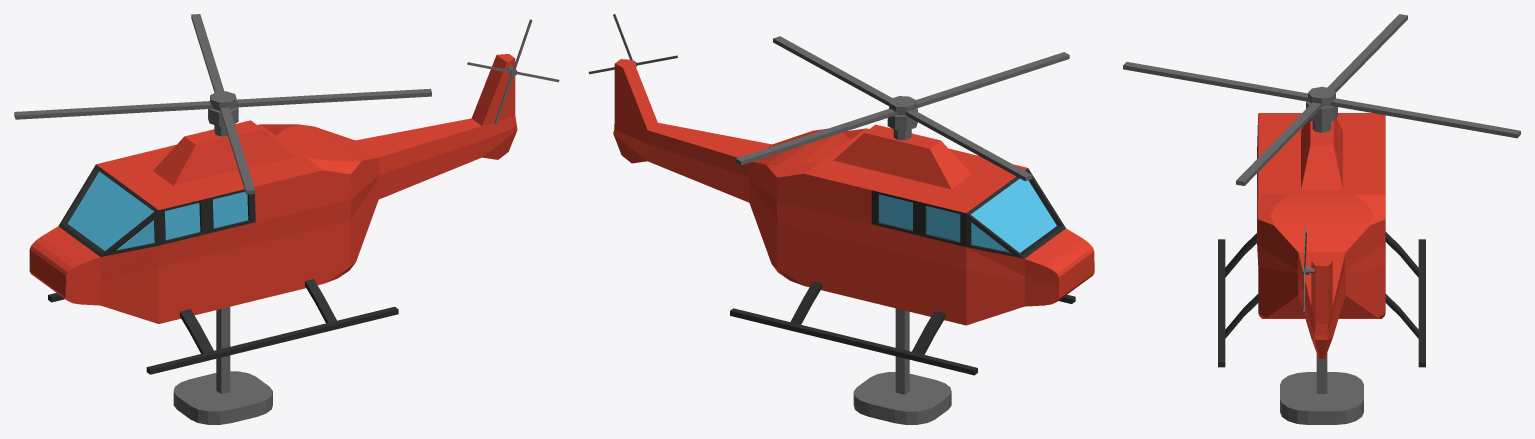
Rendered from helicopter.glb.
3 renders of one model, left to right at view 1: azimuth 30°, elevation 25°; view 2: azimuth 150°, elevation 25°; view 3: azimuth 270°, elevation 25°, orthographic. The views are drawn at different scales.
Visible parts, largest first — view 1: helicoptere, propeller-main, magnet, Cube.001, rope, propeller-side; view 2: helicoptere, propeller-main, magnet, Cube.001, rope; view 3: helicoptere, propeller-main, magnet, Cube.001, rope.
Part boxes in pixels (bbox=[...]): helicoptere: bbox=[29, 54, 517, 323]; propeller-main: bbox=[14, 14, 431, 194]; magnet: bbox=[173, 371, 272, 424]; Cube.001: bbox=[48, 279, 398, 374]; rope: bbox=[216, 307, 230, 394]; propeller-side: bbox=[467, 19, 559, 124]; helicoptere: bbox=[613, 59, 1094, 325]; propeller-main: bbox=[735, 36, 1069, 181]; magnet: bbox=[853, 372, 951, 424]; Cube.001: bbox=[730, 281, 1075, 375]; rope: bbox=[895, 308, 909, 394]; helicoptere: bbox=[1257, 113, 1385, 358]; propeller-main: bbox=[1123, 14, 1520, 185]; magnet: bbox=[1280, 372, 1363, 424]; Cube.001: bbox=[1218, 232, 1425, 367]; rope: bbox=[1316, 353, 1327, 393].
Bounding box in the file's own units: 14.16 × 8.58 × 9.54.
